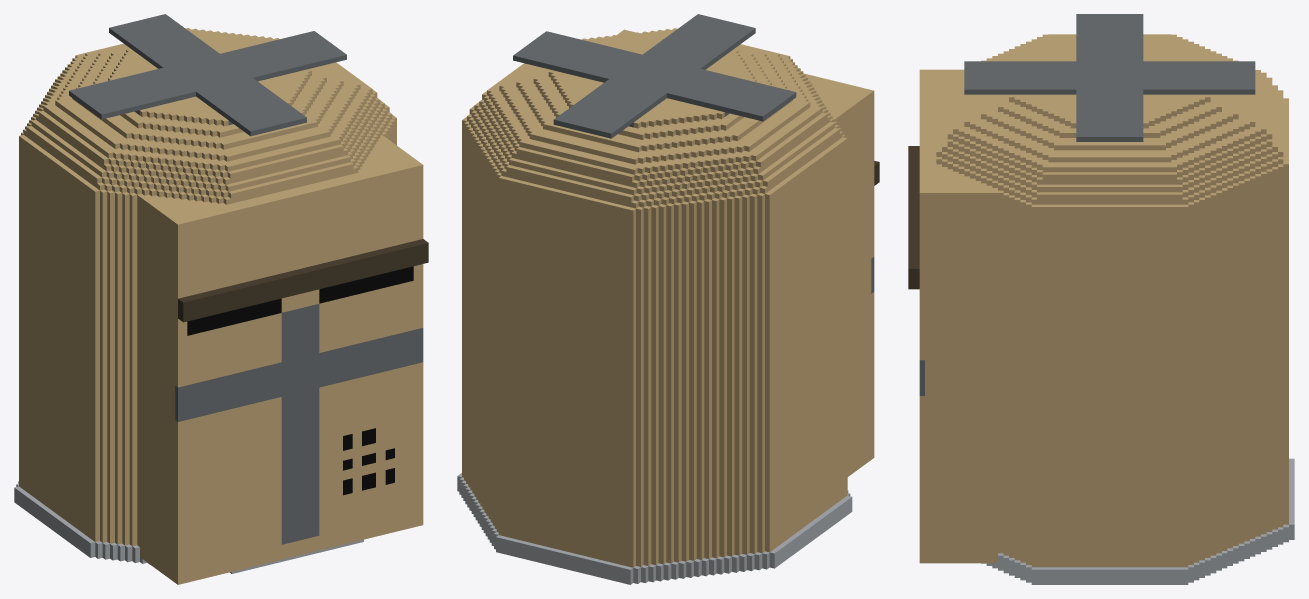
Rendered from helmet_cardboard.glb.
3 renders of one model, left to right at view 1: azimuth 30°, elevation 25°; view 2: azimuth 150°, elevation 25°; view 3: azimuth 270°, elevation 25°, orthographic. The views are drawn at different scales.
Visible parts, largest first — view 1: helmet_cardboard:compound; view 2: helmet_cardboard:compound; view 3: helmet_cardboard:compound.
Part boxes in pixels (<box>): helmet_cardboard:compound: <box>14,14,428,584</box>; helmet_cardboard:compound: <box>457,14,879,584</box>; helmet_cardboard:compound: <box>908,14,1294,584</box>.
Bounding box in the file's own units: 0.264 × 0.34 × 0.276.
